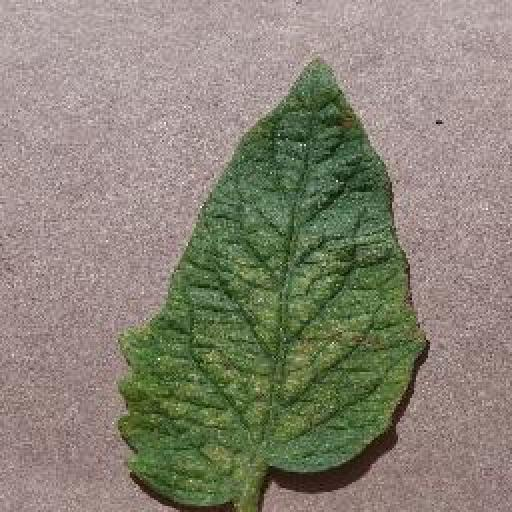disease_tomato: (117, 56, 424, 512)
